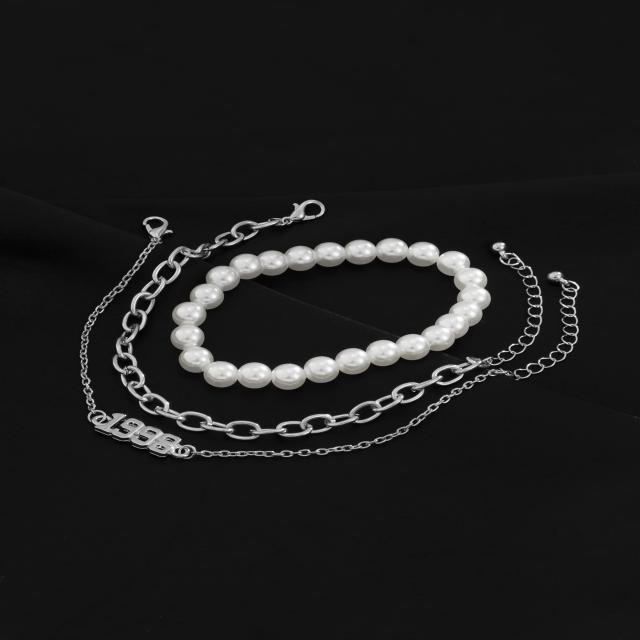bracelet: (22, 97, 640, 510)
